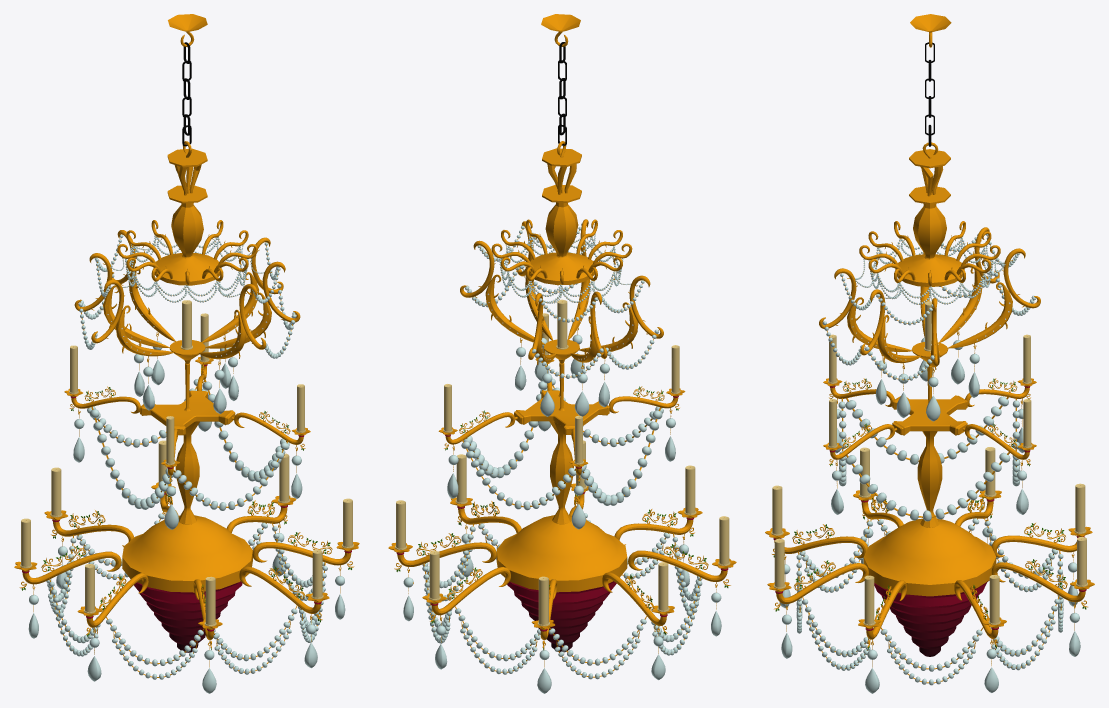
File: Chandelier.fbx
3 views of the same model, side by side, from view 1: azimuth 30°, elevation 25°; view 2: azimuth 150°, elevation 25°; view 3: azimuth 270°, elevation 25° (orthographic).
Visible parts, largest first — view 1: Chandelier; view 2: Chandelier; view 3: Chandelier.
Boxes of the visible parts, x1=… form: Chandelier: x1=14, y1=14, x2=359, y2=693; Chandelier: x1=388, y1=14, x2=736, y2=693; Chandelier: x1=765, y1=14, x2=1094, y2=693.
Size of the model in its own units: 96.42 by 204 by 96.42.
